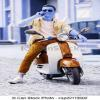motorcycles: (38, 36, 82, 86)
